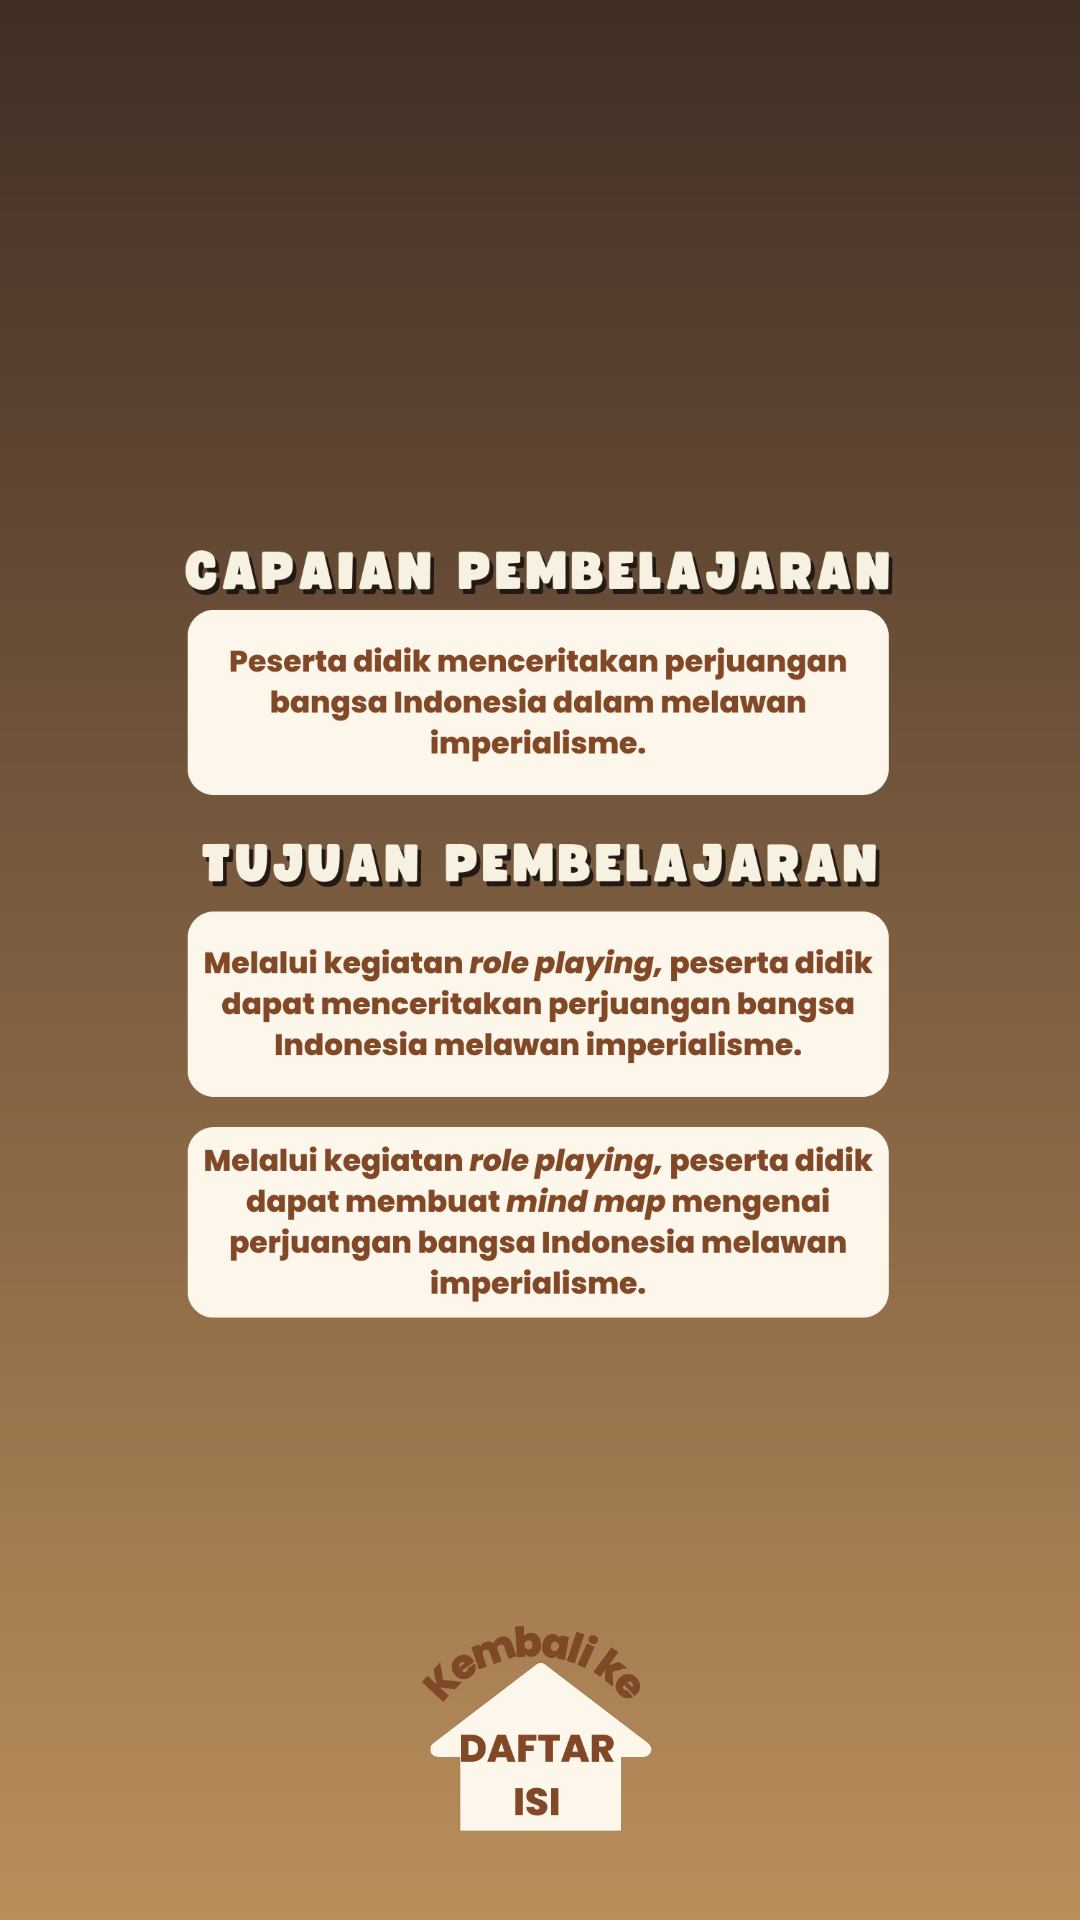

Where icons sit on this 1080 x 1920 app screen, as [left=x1, top=y1, right=x2, bottom=y2]:
home: [left=422, top=1626, right=652, bottom=1831]
